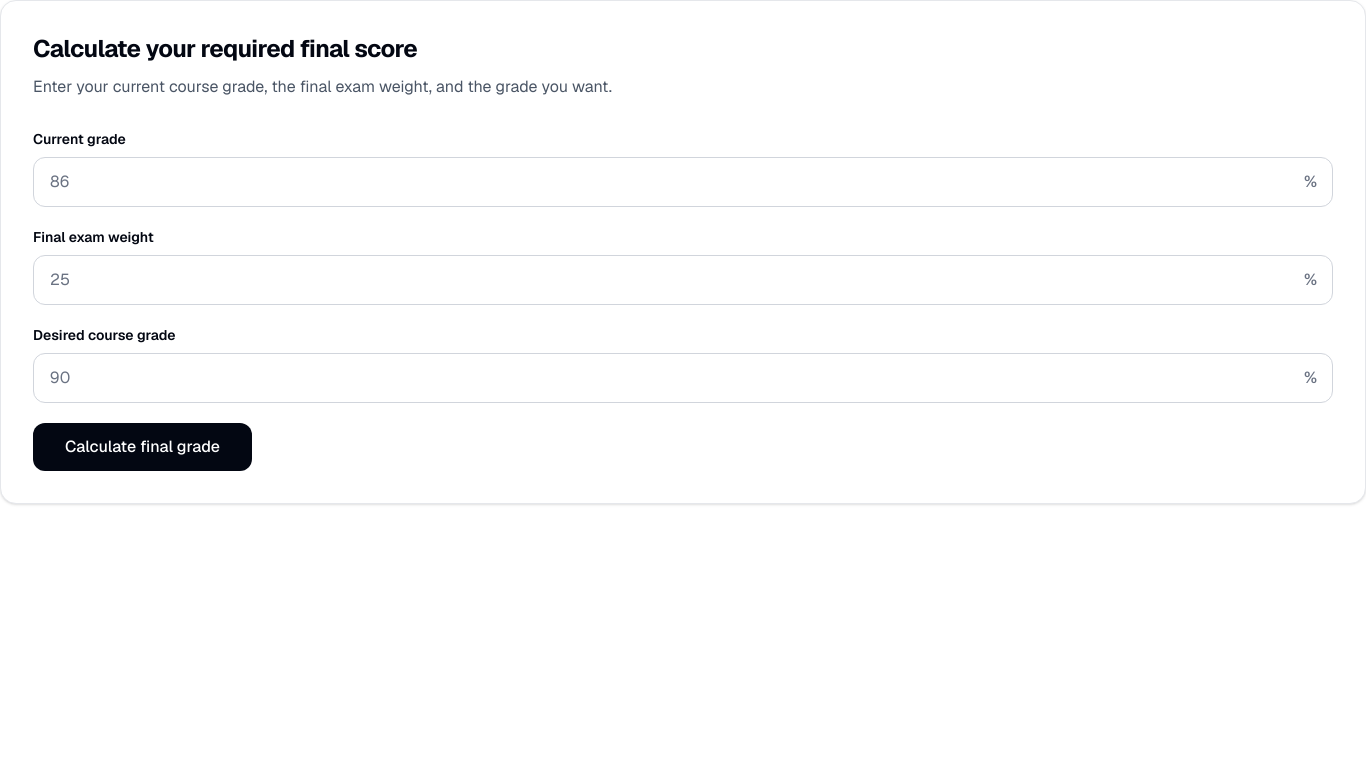
Test: FinalGradeCalculator › renders associated errors for missing values
Click the button "Calculate final grade": x=142, y=447 [33,423,252,471]
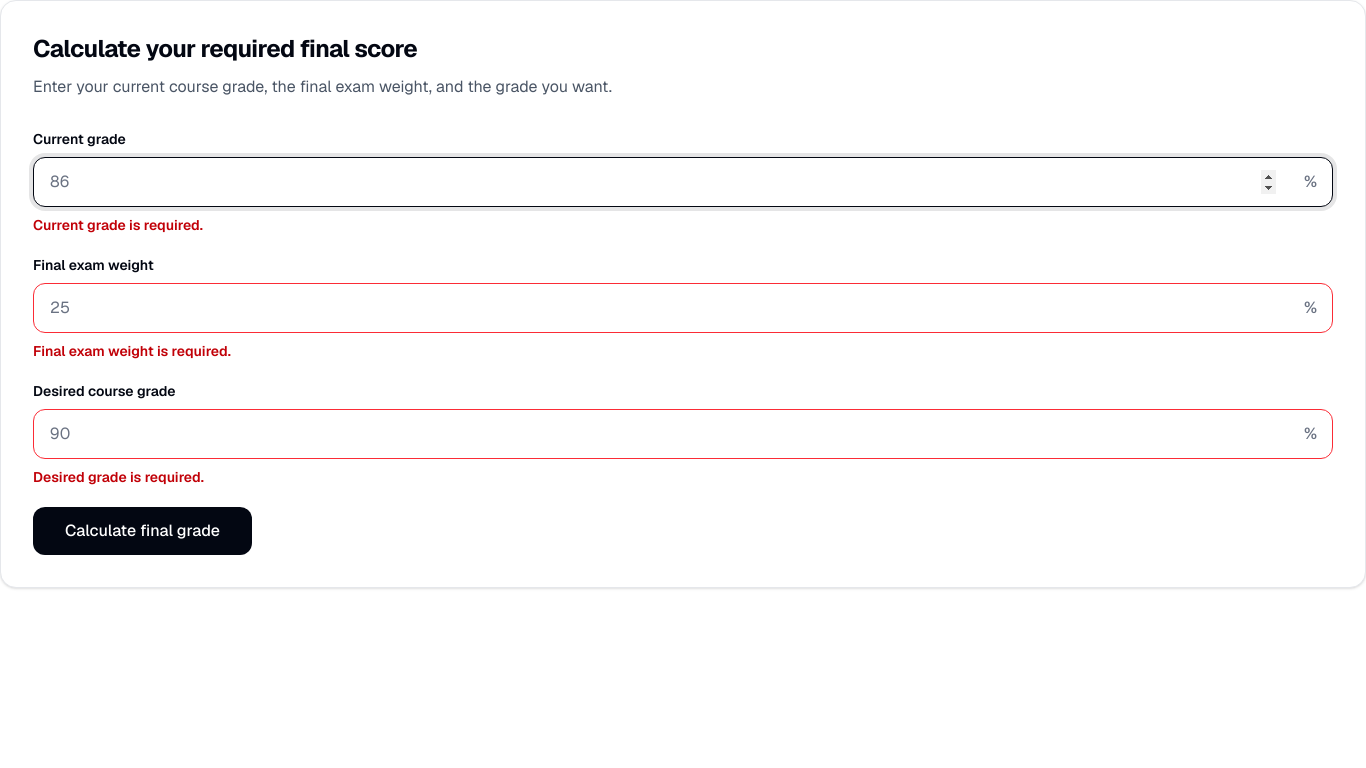
Check: the number of messages is 3, box [33,216,203,234]; [33,342,231,360]; [33,468,204,486]
